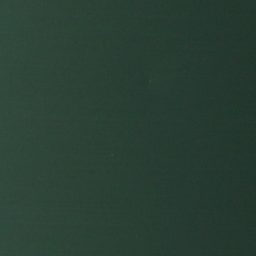dent: (140, 72, 154, 85)
